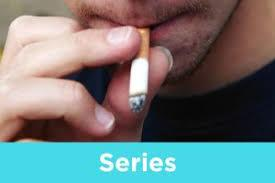smoke: (128, 27, 150, 114)
